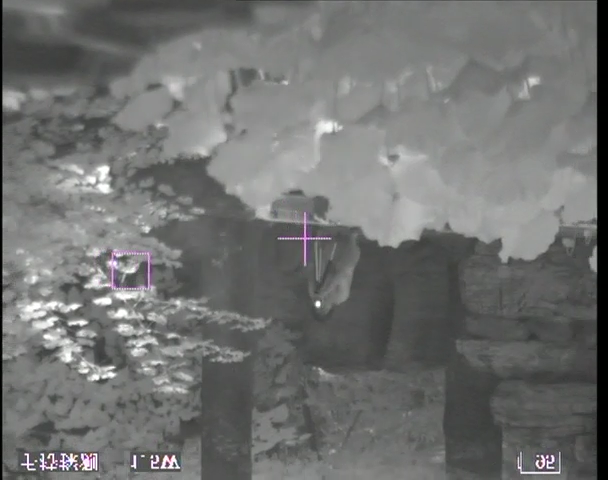my: (314, 299, 325, 309)
